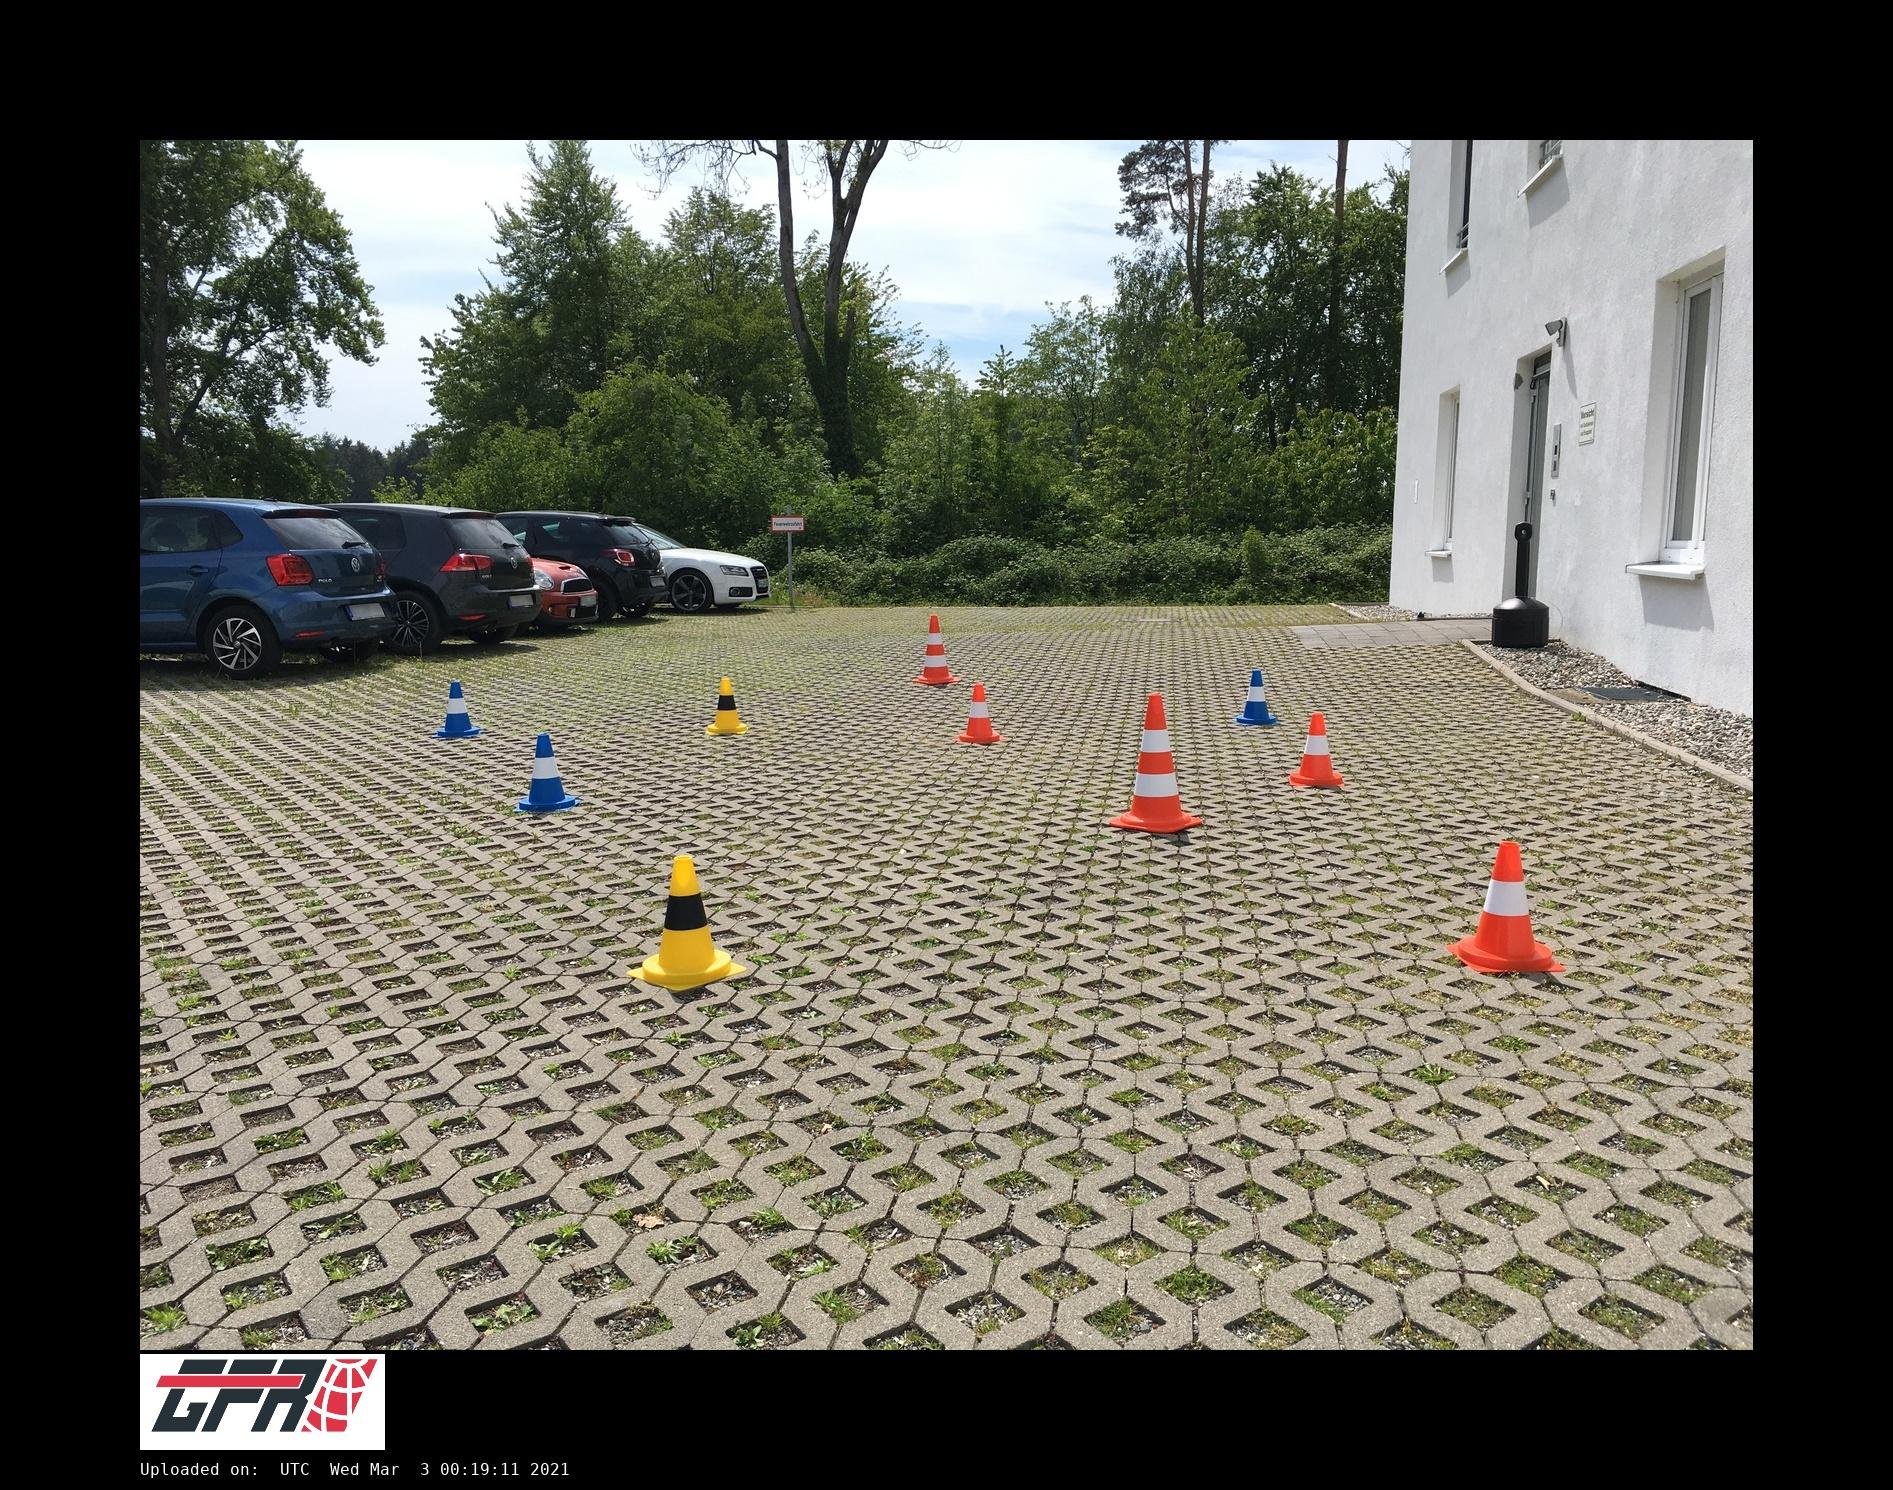blue_cone: (516, 736, 581, 813), (435, 680, 482, 737), (1234, 670, 1281, 725)
large_orange_cone: (1111, 694, 1202, 834), (916, 614, 956, 684)
orange_cone: (1452, 839, 1566, 972), (1291, 713, 1344, 786), (956, 684, 1003, 743)
yellow_cone: (628, 856, 747, 989), (705, 677, 748, 734)
